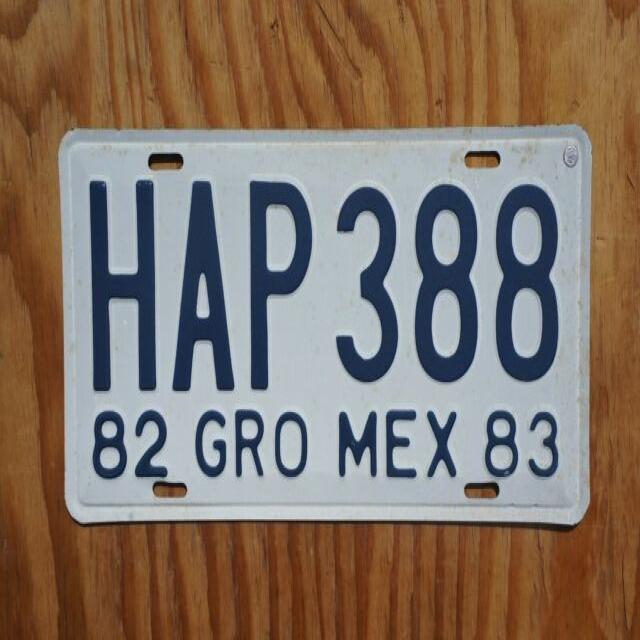placa: (68, 166, 580, 403)
